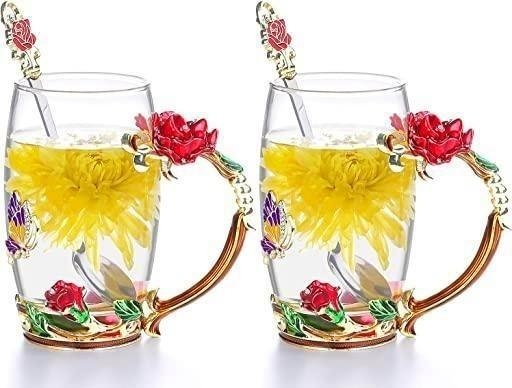glass-mug: (254, 66, 512, 362), (0, 64, 255, 360)
